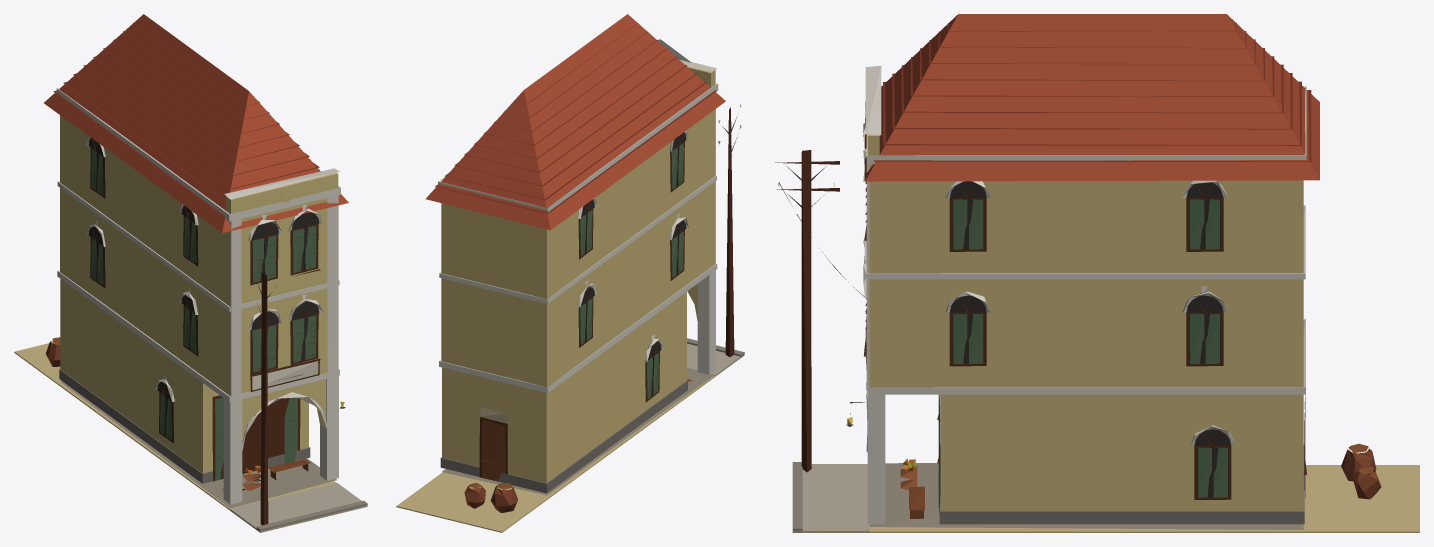
Rendered from bay2_one.glb.
3 renders of one model, left to right at view 1: azimuth 30°, elevation 25°; view 2: azimuth 150°, elevation 25°; view 3: azimuth 270°, elevation 25°, orthographic. The views are drawn at different scales.
Parts seen in each view (by area): view 1: body, windows; view 2: body, windows; view 3: body, windows.
Boxes of the visible parts, left/top/right/bottom form: body: left=14, top=14, right=367, bottom=532; windows: left=88, top=138, right=344, bottom=440; body: left=396, top=14, right=744, bottom=532; windows: left=579, top=132, right=686, bottom=399; body: left=775, top=14, right=1419, bottom=532; windows: left=847, top=181, right=1231, bottom=497.
Size of the model in its own units: 4.75 by 13.59 by 16.4.
